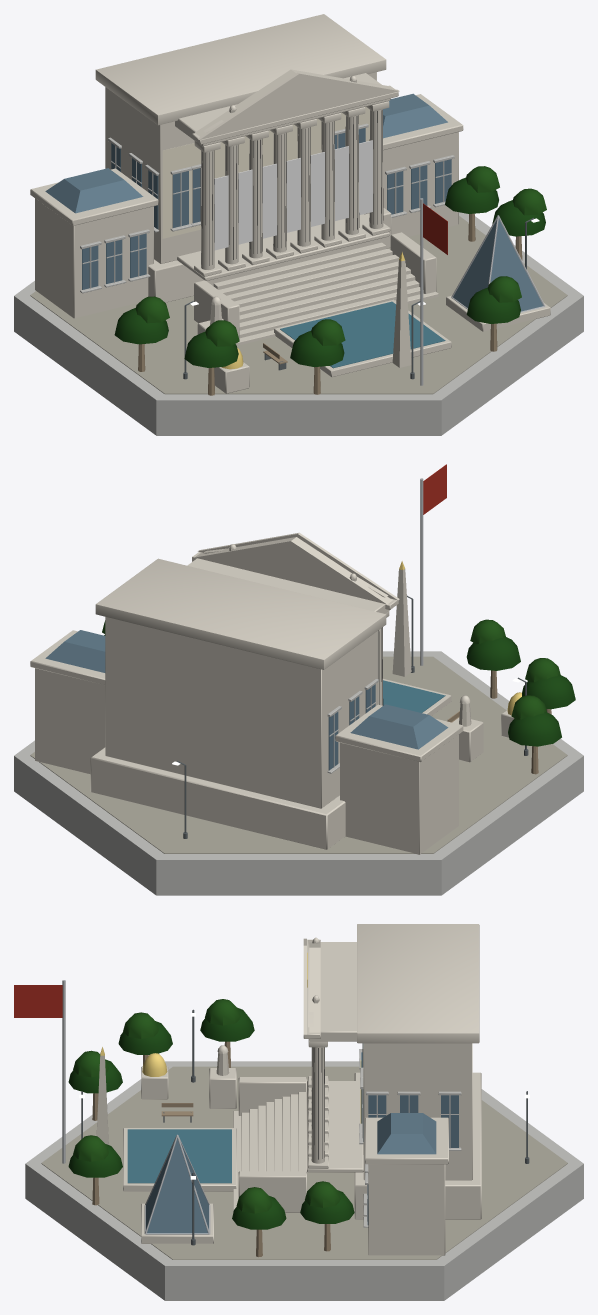
The model's file is museum_us.glb.
3 views of the same model, one above another, from view 1: azimuth 30°, elevation 25°; view 2: azimuth 150°, elevation 25°; view 3: azimuth 270°, elevation 25° (orthographic). The views are drawn at different scales.
Visible parts, largest first — view 1: stone, wall_concrete, pavers, glass, leaf, banner, plaster, dark, metal, wood, paint, steel_dark; view 2: stone, wall_concrete, pavers, glass, leaf, paint, metal, steel_dark; view 3: stone, wall_concrete, pavers, glass, leaf, metal, paint, wood, steel_dark, gold, dark.
Part boxes in pixels (<box>): stone: <box>30,14,550,393</box>; wall_concrete: <box>14,123,583,435</box>; pavers: <box>30,216,567,394</box>; glass: <box>45,93,543,368</box>; leaf: <box>114,166,546,367</box>; banner: <box>214,140,372,250</box>; plaster: <box>162,106,369,238</box>; dark: <box>201,110,383,265</box>; metal: <box>420,198,545,385</box>; wood: <box>138,213,522,395</box>; paint: <box>423,203,447,254</box>; steel_dark: <box>183,218,534,379</box>; stone: <box>30,532,514,854</box>; wall_concrete: <box>14,651,583,895</box>; pavers: <box>30,656,567,853</box>; glass: <box>45,630,448,770</box>; leaf: <box>102,619,575,746</box>; paint: <box>423,464,446,514</box>; metal: <box>420,478,423,665</box>; steel_dark: <box>177,595,528,838</box>; stone: <box>96,924,481,1255</box>; wall_concrete: <box>25,1043,583,1300</box>; pavers: <box>41,1066,567,1259</box>; glass: <box>127,1043,458,1233</box>; leaf: <box>68,999,354,1229</box>; metal: <box>62,980,210,1234</box>; paint: <box>14,985,62,1017</box>; wood: <box>92,1041,330,1257</box>; steel_dark: <box>81,1009,529,1245</box>; gold: <box>100,952,361,1123</box>; dark: <box>312,1047,363,1159</box>.
Size of the model in its own units: 21.94 by 12.3 by 25.1.
